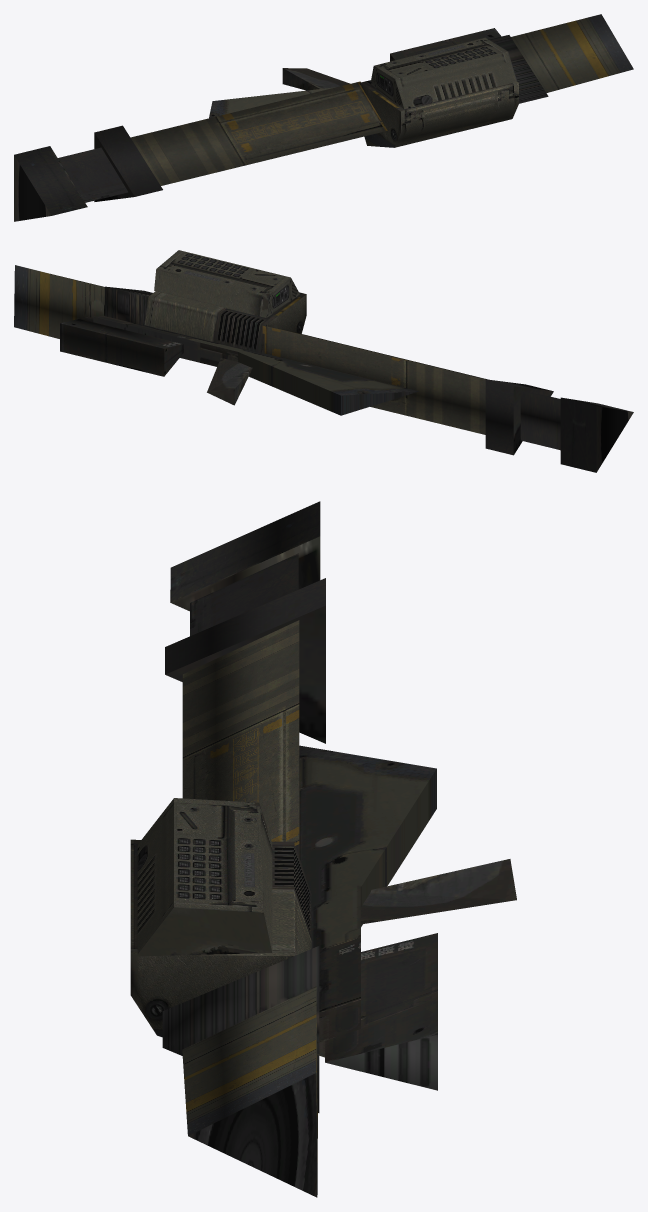
The model's file is t6_wpn_launch_fhj18_stow_LOD2.obj.
3 views of the same model, one above another, from view 1: azimuth 30°, elevation 25°; view 2: azimuth 150°, elevation 25°; view 3: azimuth 270°, elevation 25° (orthographic). The views are drawn at different scales.
Visible parts, largest first — view 1: mtl_t6_wpn_launch_fhj18, mtl_t6_wpn_launch_fhj18_camo4, mtl_t6_wpn_launch_fhj18_camo2, mtl_t6_wpn_launch_fhj18_camo3; view 2: mtl_t6_wpn_launch_fhj18, mtl_t6_wpn_launch_fhj18_camo4, mtl_t6_wpn_launch_fhj18_camo2, mtl_t6_wpn_launch_fhj18_camo3; view 3: mtl_t6_wpn_launch_fhj18, mtl_t6_wpn_launch_fhj18_camo4, mtl_t6_wpn_launch_fhj18_camo2, mtl_t6_wpn_launch_fhj18_camo3.
Part boxes in pixels (x1,y1,x2,y2): mtl_t6_wpn_launch_fhj18: (130,14,633,185); mtl_t6_wpn_launch_fhj18_camo4: (58,28,517,202); mtl_t6_wpn_launch_fhj18_camo2: (14,35,548,221); mtl_t6_wpn_launch_fhj18_camo3: (209,87,335,118); mtl_t6_wpn_launch_fhj18: (14,265,487,434); mtl_t6_wpn_launch_fhj18_camo4: (60,250,560,450); mtl_t6_wpn_launch_fhj18_camo2: (105,286,633,472); mtl_t6_wpn_launch_fhj18_camo3: (93,315,418,415); mtl_t6_wpn_launch_fhj18: (130,620,437,1197); mtl_t6_wpn_launch_fhj18_camo4: (136,553,437,1062); mtl_t6_wpn_launch_fhj18_camo2: (162,501,516,1112); mtl_t6_wpn_launch_fhj18_camo3: (299,745,436,1057).
Size of the model in its own units: 89.53 by 12.69 by 25.68.
